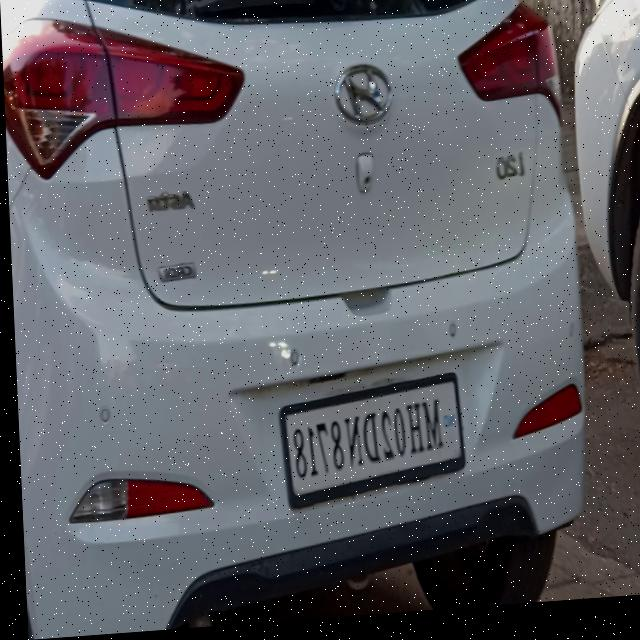plate: (268, 368, 464, 515)
